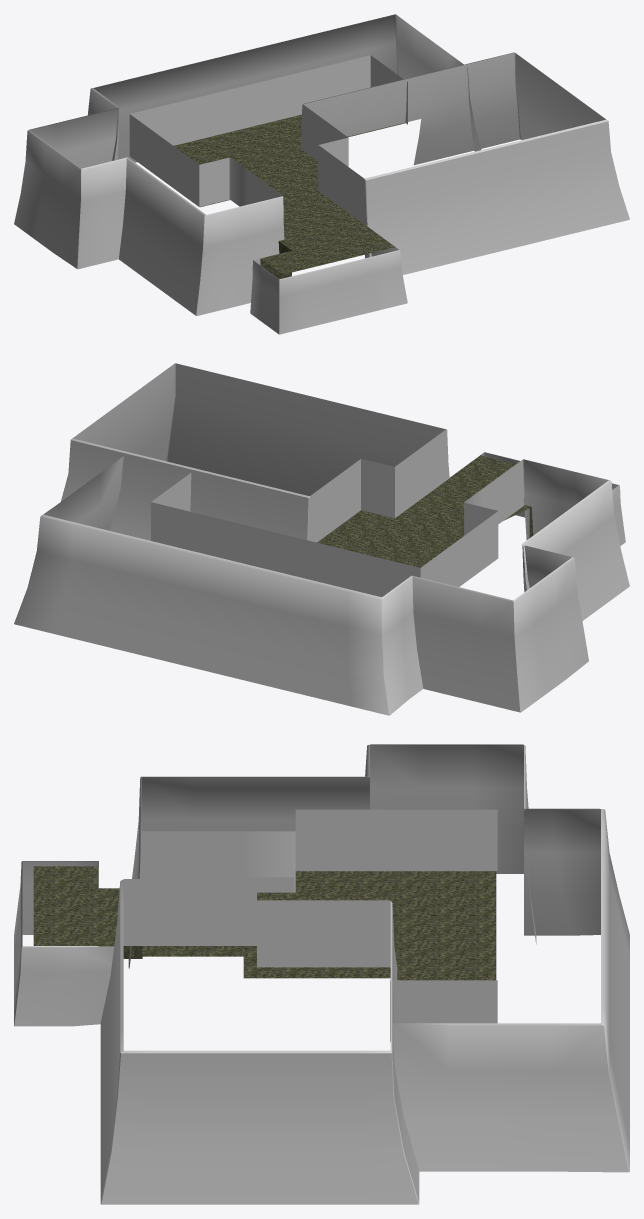
The model's file is Main_castle_base001.fbx.
3 renders of one model, top to bottom at view 1: azimuth 30°, elevation 25°; view 2: azimuth 150°, elevation 25°; view 3: azimuth 270°, elevation 25°, orthographic. The views are drawn at different scales.
Visible parts, largest first — view 1: Main_castle_base001; view 2: Main_castle_base001; view 3: Main_castle_base001.
Boxes of the visible parts, x1=… form: Main_castle_base001: x1=14, y1=14, x2=629, y2=334; Main_castle_base001: x1=14, y1=363, x2=629, y2=715; Main_castle_base001: x1=14, y1=744, x2=629, y2=1204.
Bounding box in the file's own units: 2441 × 492 × 1920.
